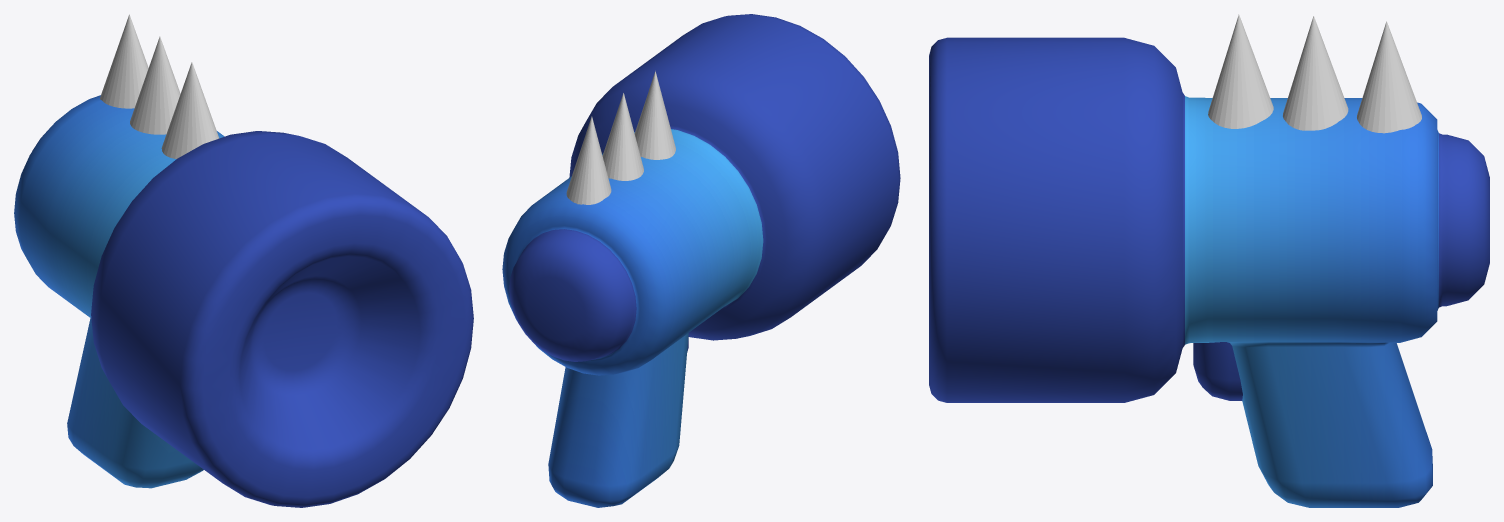
File: gun_model_2.glb
3 renders of one model, left to right at view 1: azimuth 30°, elevation 25°; view 2: azimuth 150°, elevation 25°; view 3: azimuth 270°, elevation 25°, orthographic. The views are drawn at different scales.
Parts seen in each view (by area): view 1: BlueGun, Cône.001, Cône, Cône.002; view 2: BlueGun, Cône.002, Cône, Cône.001; view 3: BlueGun, Cône.001, Cône, Cône.002.
Part boxes in pixels (x1=…): BlueGun: x1=14, y1=95, x2=473, y2=507; Cône.001: x1=130, y1=36, x2=180, y2=134; Cône: x1=161, y1=62, x2=219, y2=158; Cône.002: x1=100, y1=14, x2=148, y2=108; BlueGun: x1=502, y1=14, x2=900, y2=507; Cône.002: x1=566, y1=116, x2=611, y2=204; Cône: x1=634, y1=71, x2=675, y2=159; Cône.001: x1=602, y1=93, x2=643, y2=180; BlueGun: x1=929, y1=37, x2=1489, y2=507; Cône.001: x1=1283, y1=16, x2=1348, y2=130; Cône: x1=1208, y1=14, x2=1273, y2=128; Cône.002: x1=1357, y1=21, x2=1421, y2=133.
Size of the model in its own units: 0.614 by 0.8921 by 0.942.
1 material, 1 textured.
